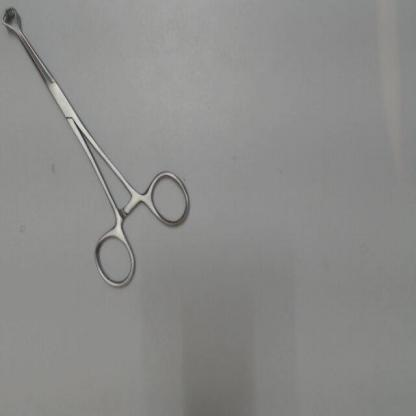Babcock Tissue Forceps: (1, 3, 194, 294)
